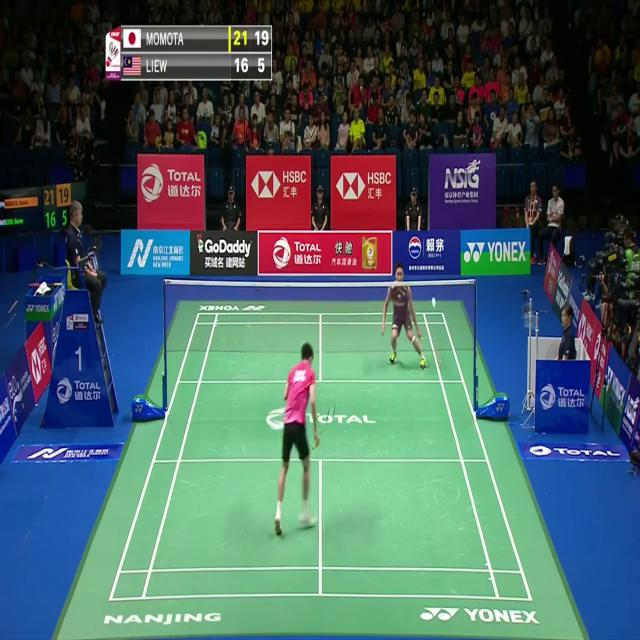Shuttlecock: (430, 296, 436, 307)
